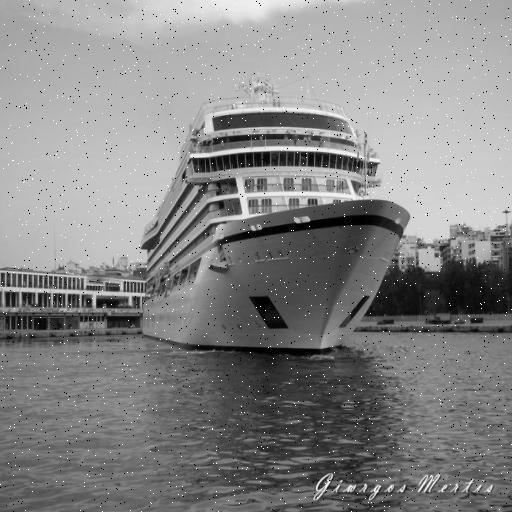cruises: (138, 73, 414, 363)
